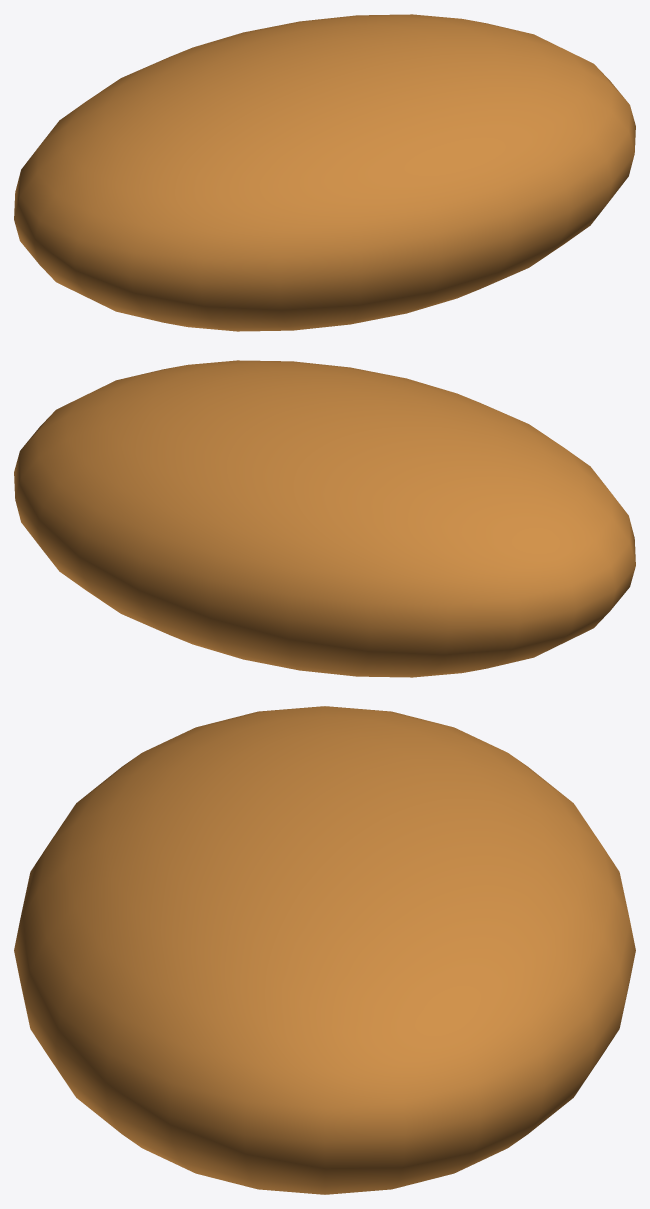
File: wp-madeleine.glb
3 views of the same model, one above another, from view 1: azimuth 30°, elevation 25°; view 2: azimuth 150°, elevation 25°; view 3: azimuth 270°, elevation 25° (orthographic). The views are drawn at different scales.
Visible parts, largest first — view 1: wp-madeleine; view 2: wp-madeleine; view 3: wp-madeleine.
Part boxes in pixels (x1,y1,x2,y2): wp-madeleine: (14,14,635,331); wp-madeleine: (14,360,635,677); wp-madeleine: (14,706,635,1194).
Size of the model in its own units: 0.08 by 0.03 by 0.055.
